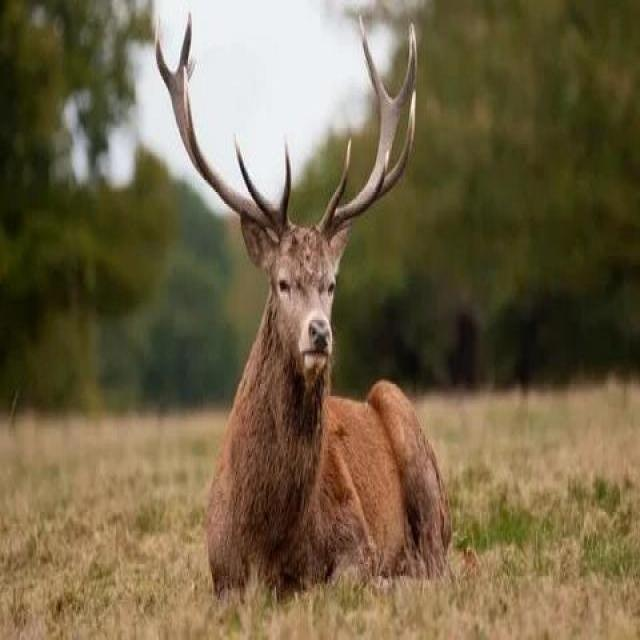deer: (166, 53, 459, 606)
